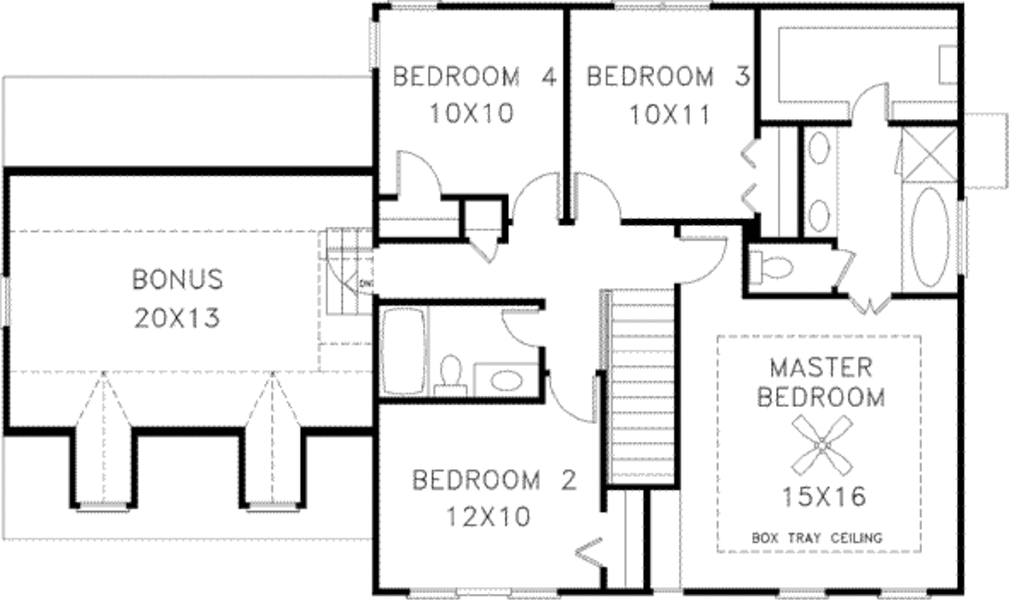door: (499, 170, 567, 229), (541, 369, 601, 424), (675, 231, 729, 292), (569, 170, 625, 226), (393, 147, 445, 203), (501, 304, 553, 351), (848, 81, 891, 127), (829, 240, 857, 289)
large_sink: (427, 354, 472, 398), (743, 248, 795, 286)
small_sink: (798, 121, 841, 236), (473, 357, 544, 402)
stairs: (599, 288, 677, 495)
tub: (900, 182, 958, 296), (375, 305, 427, 400)
windows: (403, 584, 563, 602), (876, 582, 930, 601), (73, 500, 133, 516), (243, 499, 299, 515), (774, 586, 826, 601)
